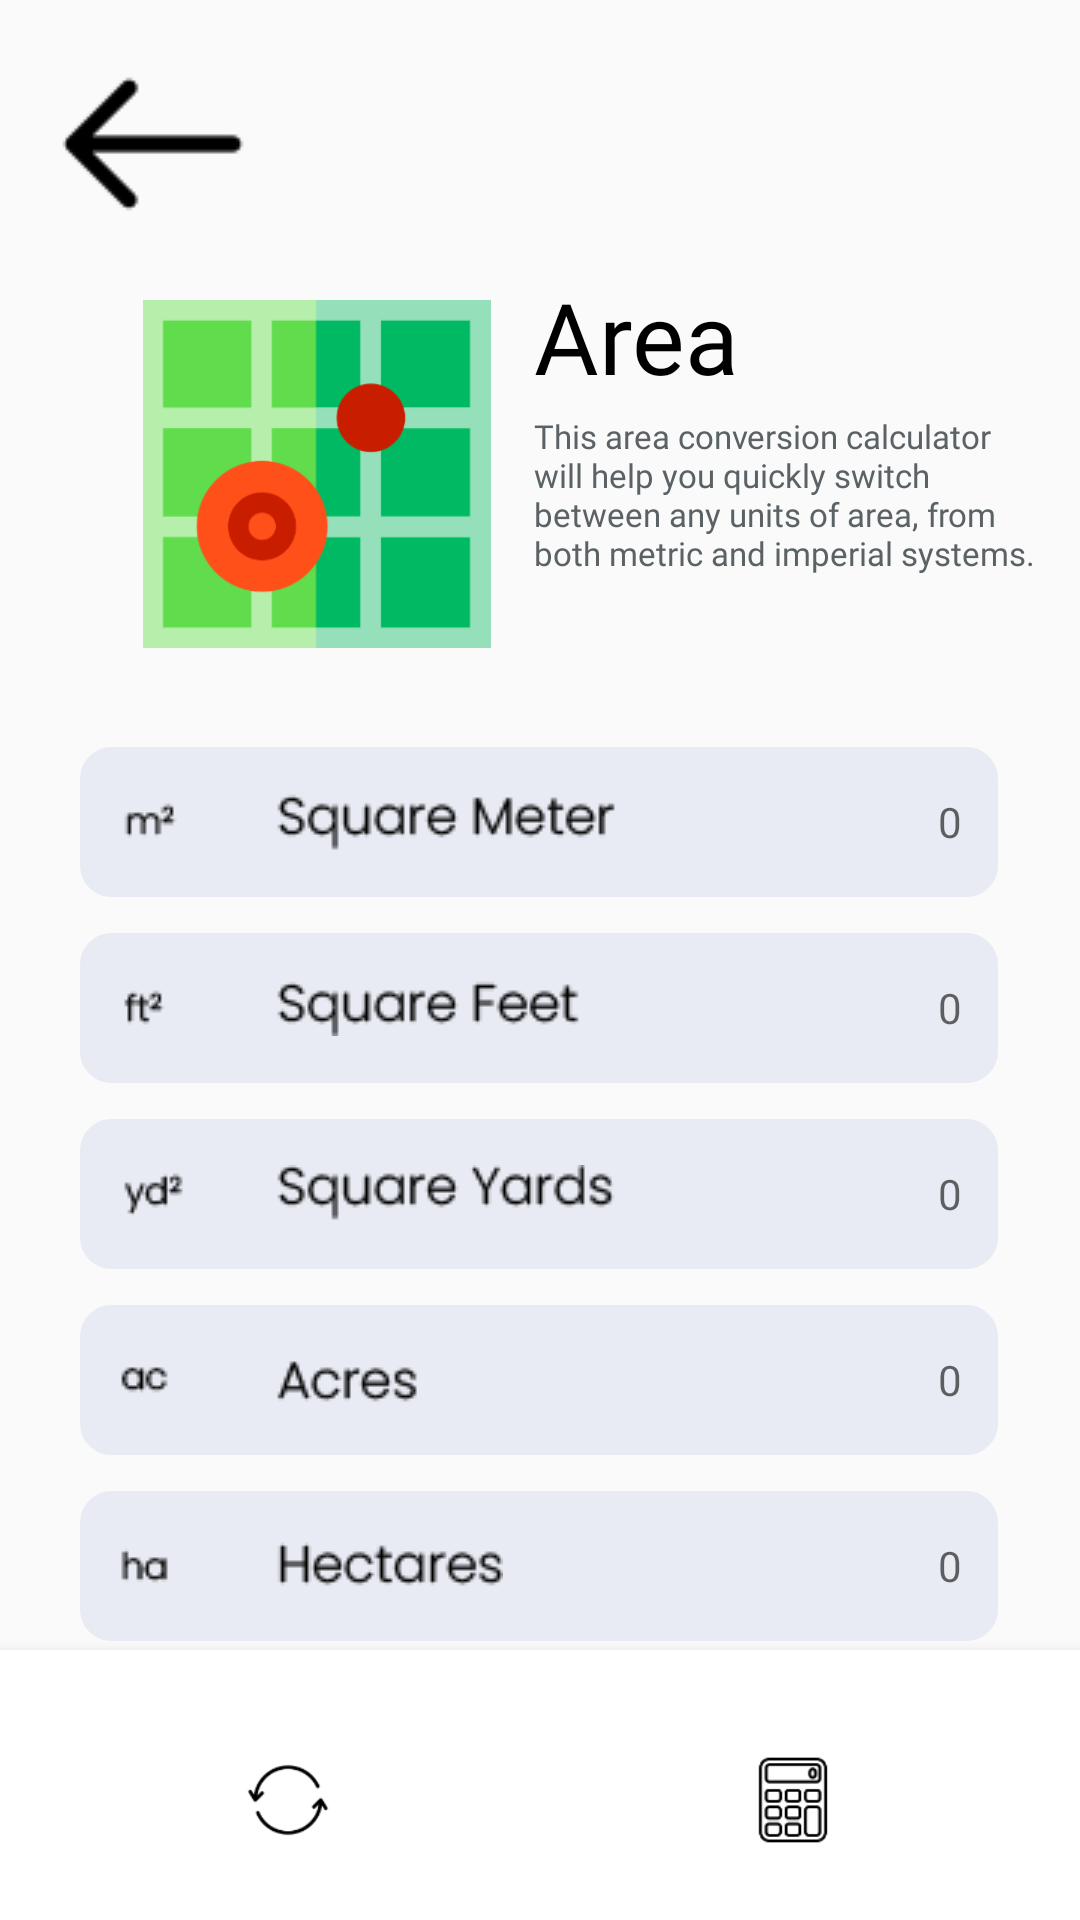

Screen size 1080w x 1920h. Icon name, then its box in pixels as BBox(x1, y1, x2, y2):
arrow: BBox(63, 78, 243, 210)
